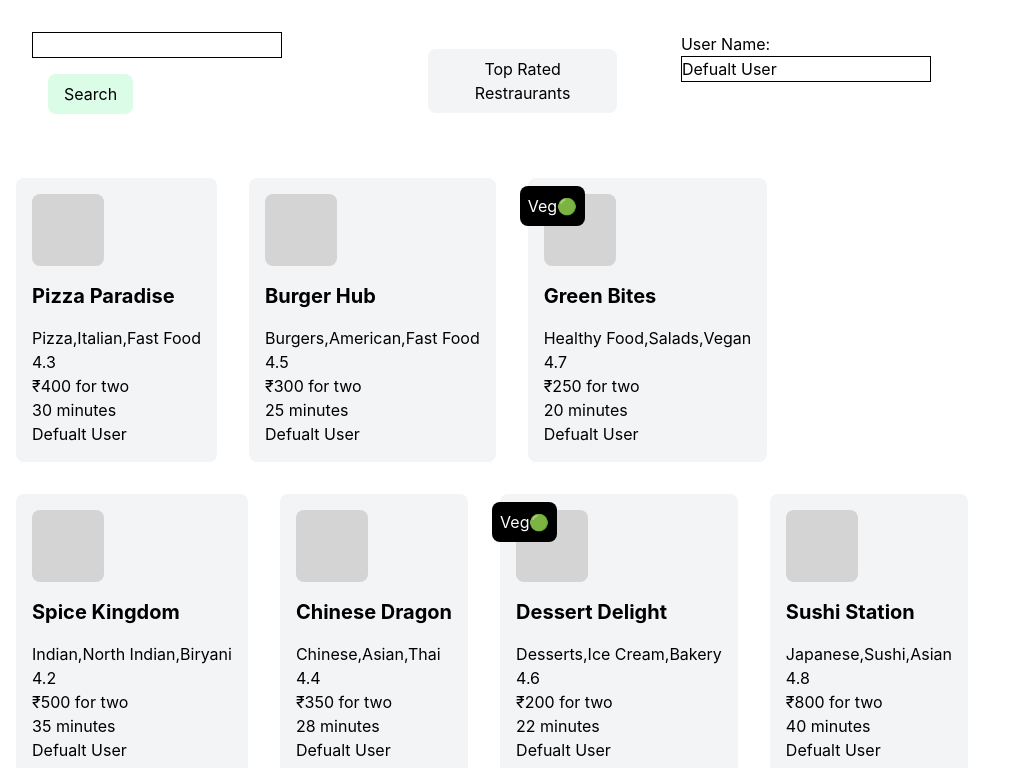
Test: Should filter Top Rated Restaurants
Click the button "Top Rated Restraurants" at (523,81), box x1=428 y1=49 x2=617 y2=113
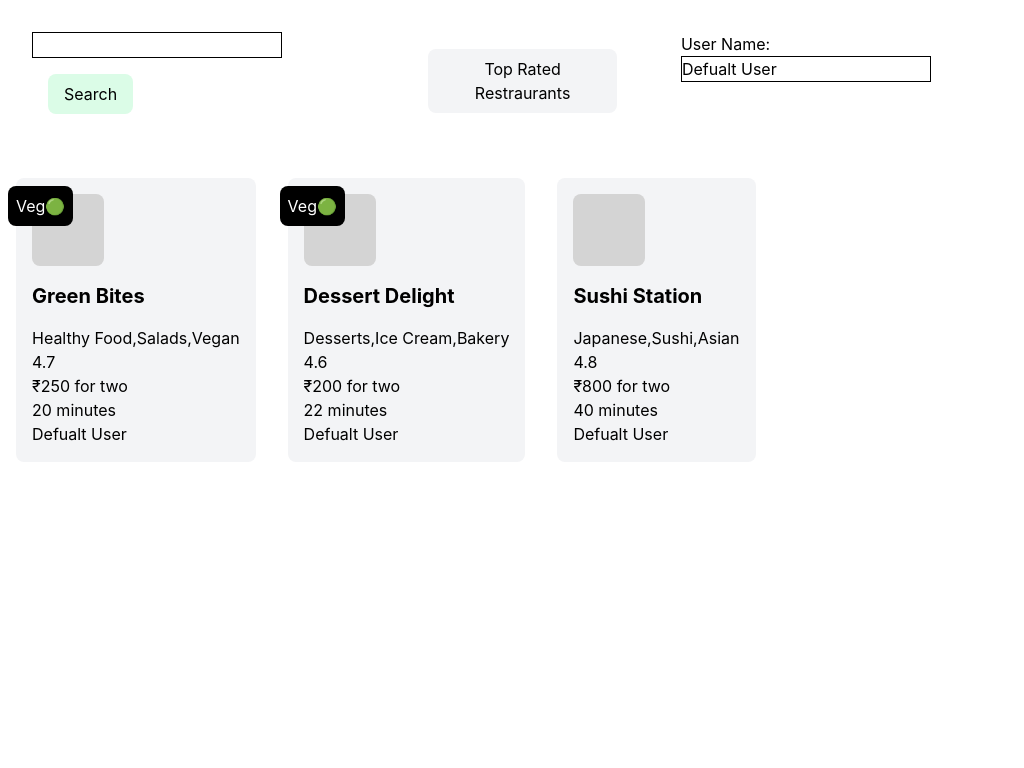
Expected: the number of elements with test id "restaurantCard" is 3, x1=16 y1=178 x2=256 y2=462; x1=288 y1=178 x2=525 y2=462; x1=557 y1=178 x2=756 y2=462
